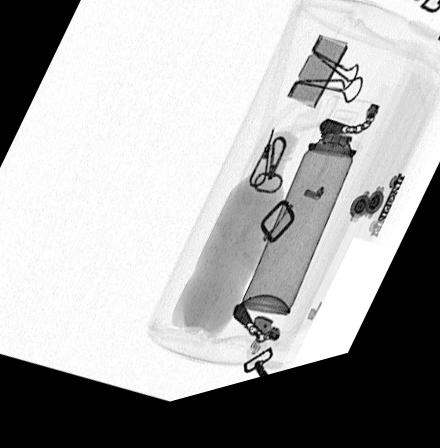Sprayer: (235, 112, 380, 333)
